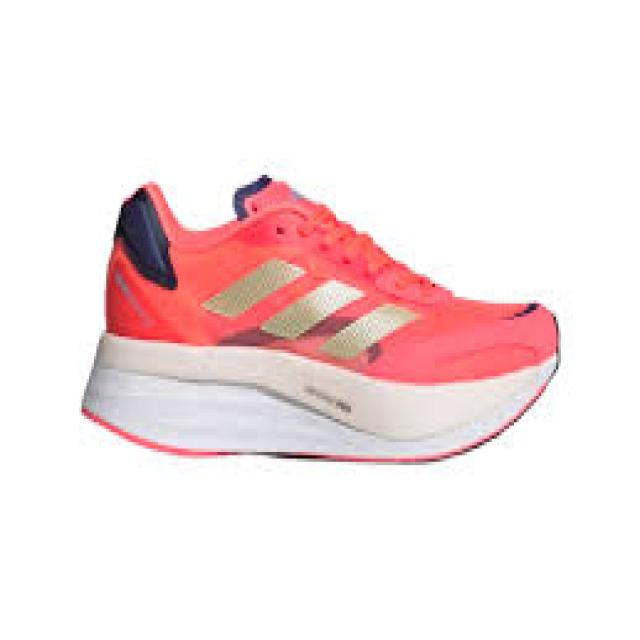shoe: (81, 176, 565, 470)
